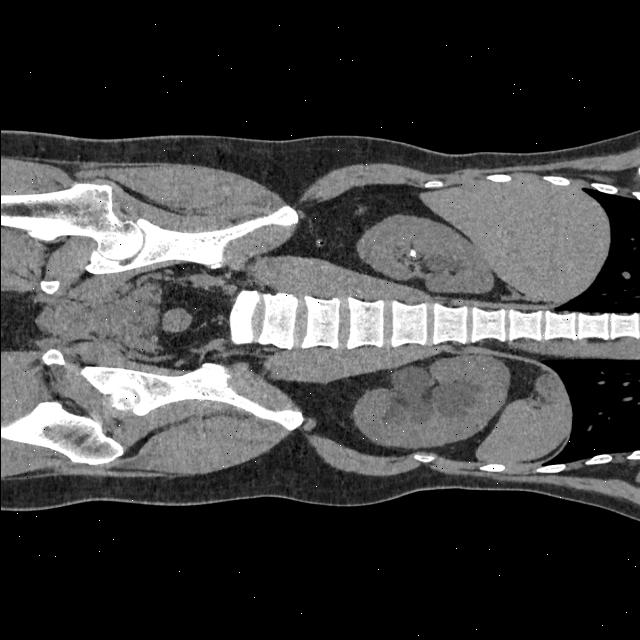kidneystone: (408, 250, 416, 258)
